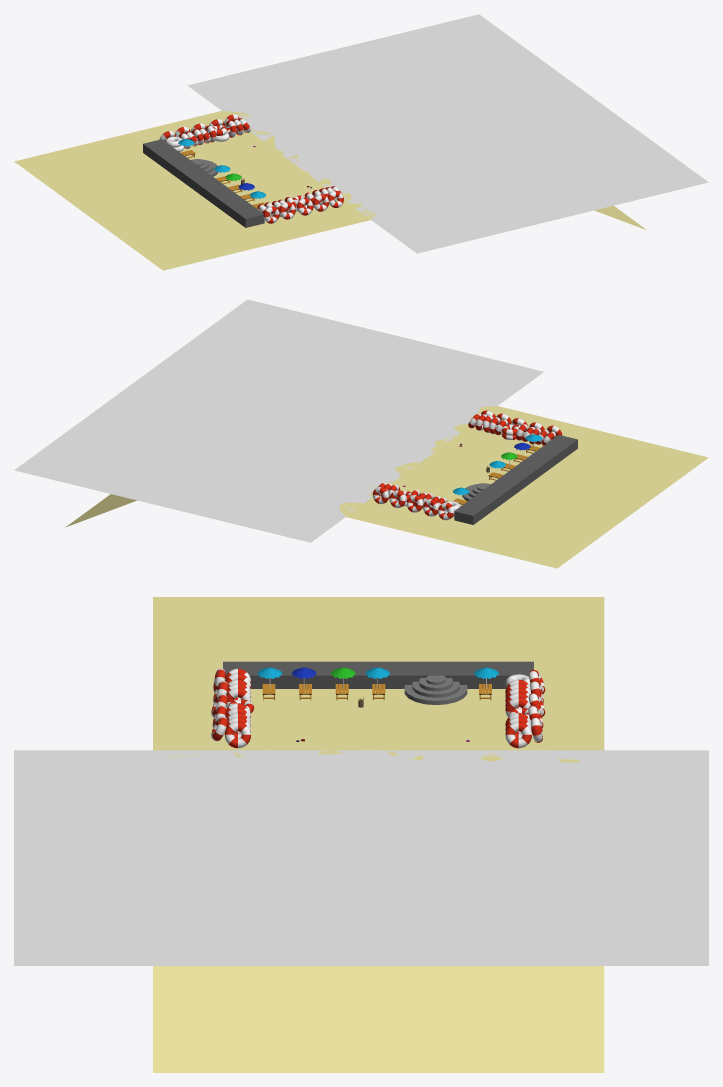
The model's file is Map.FBX.
3 views of the same model, one above another, from view 1: azimuth 30°, elevation 25°; view 2: azimuth 150°, elevation 25°; view 3: azimuth 270°, elevation 25° (orthographic). The views are drawn at different scales.
Parts seen in each view (by area): view 1: Plane003, Plane002, Box001; view 2: Plane003, Plane002, Box001; view 3: Plane003, Plane002, Box001.
Boxes of the visible parts, x1,y1,x2,y2 form: Plane003: [187, 14, 708, 253]; Plane002: [14, 111, 646, 270]; Box001: [143, 139, 264, 227]; Plane003: [14, 299, 543, 542]; Plane002: [65, 406, 708, 568]; Box001: [454, 435, 577, 524]; Plane003: [14, 750, 708, 965]; Plane002: [153, 597, 604, 1072]; Box001: [223, 661, 533, 688].
Size of the model in its own units: 244 by 45.47 by 194.
